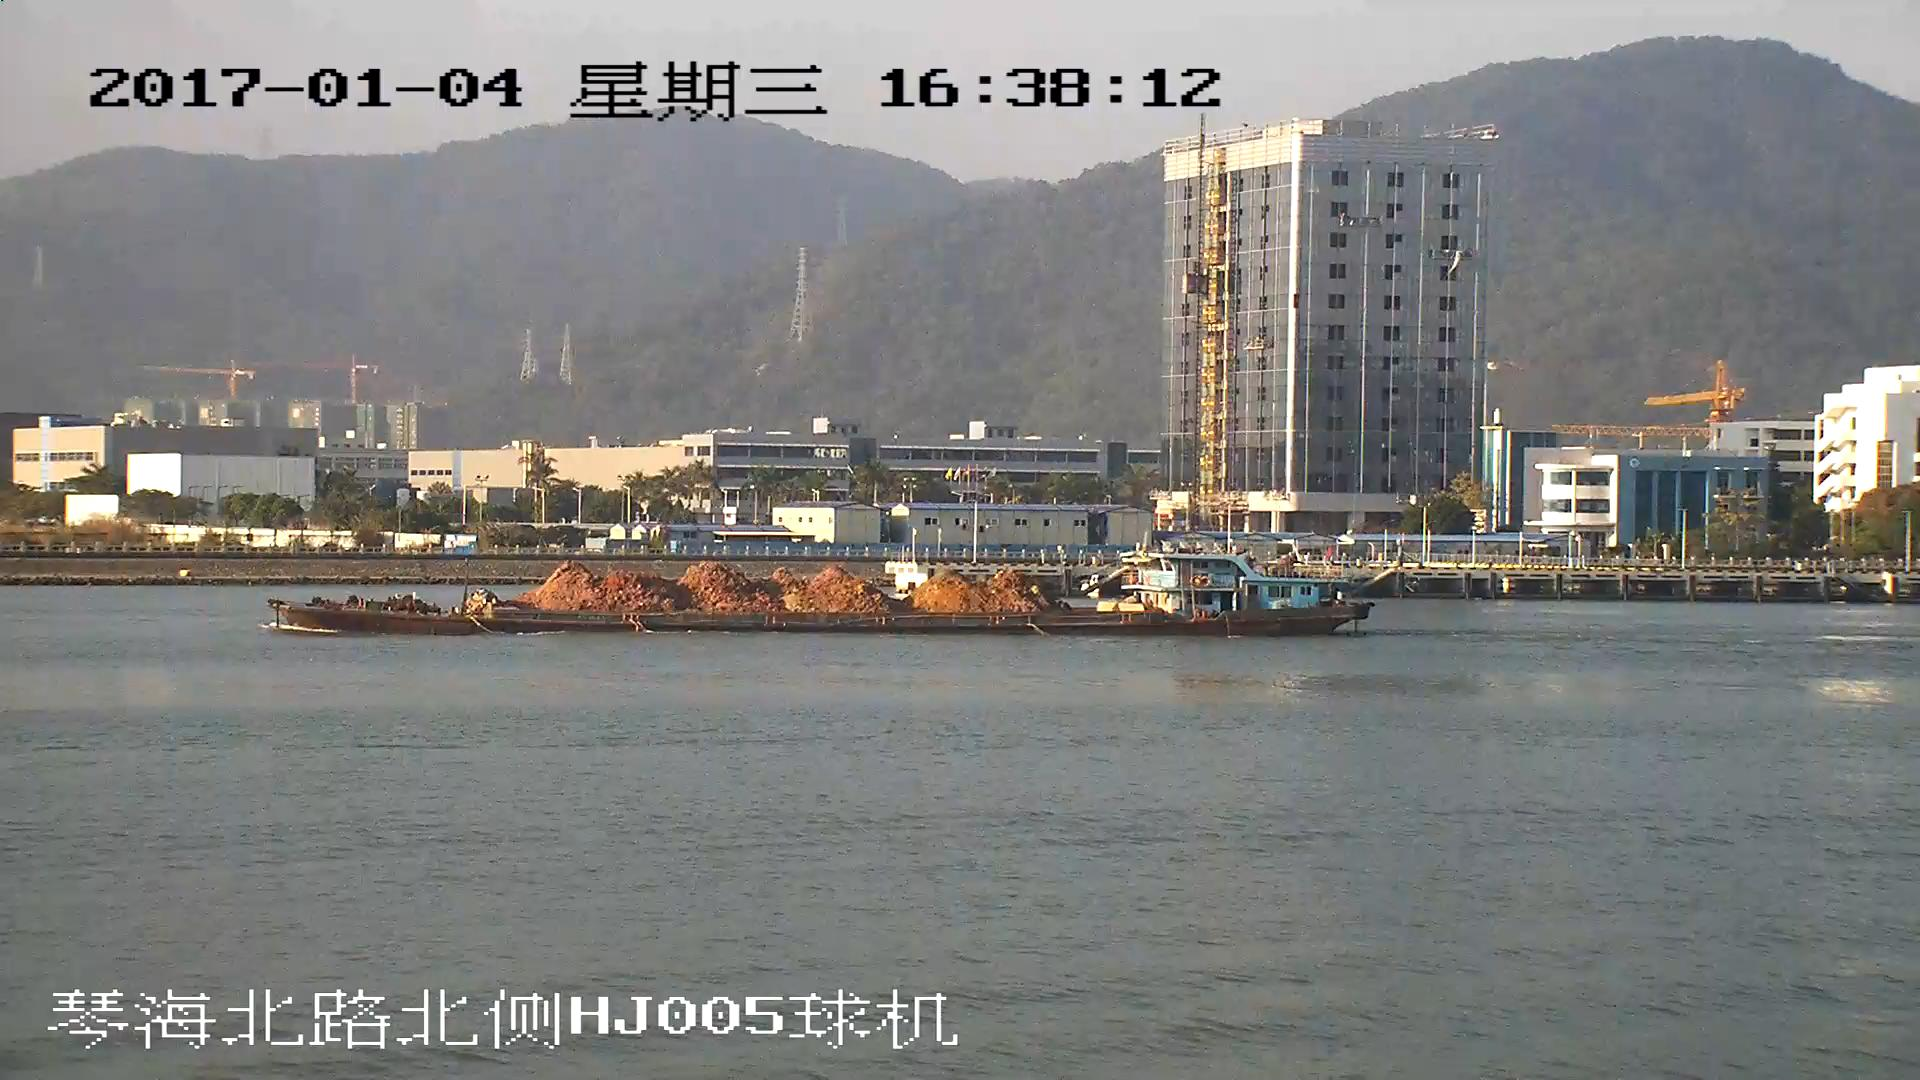ore carrier: (265, 552, 1372, 634)
